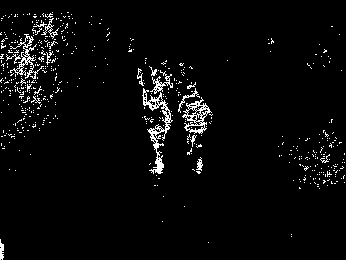person: (178, 85, 212, 176), (142, 90, 173, 174)
